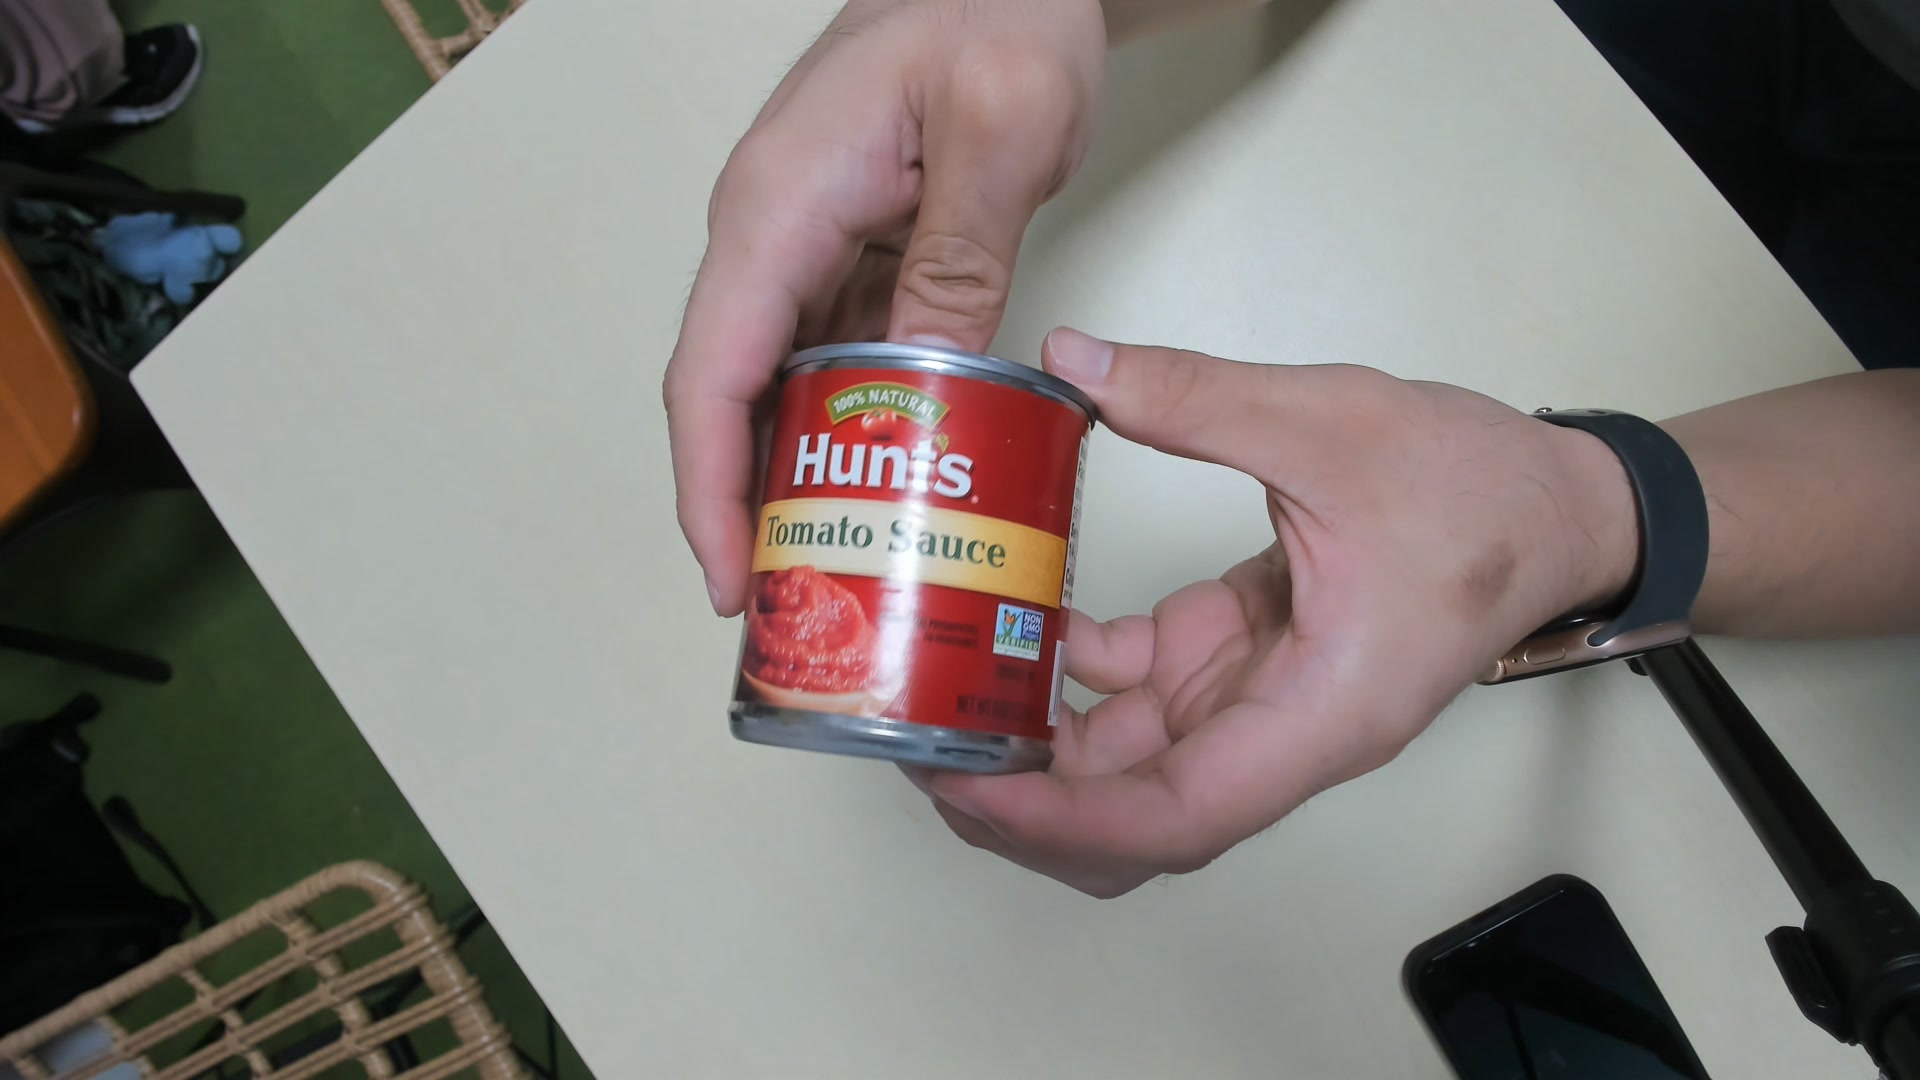OtherSauceDressing_200-299g_NonHalal_NonHealthy: (735, 343, 1100, 771)
